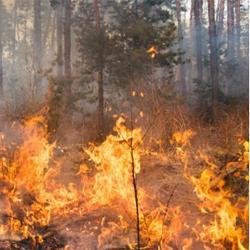fire: (89, 133, 140, 209), (8, 119, 48, 188), (199, 175, 227, 212)
